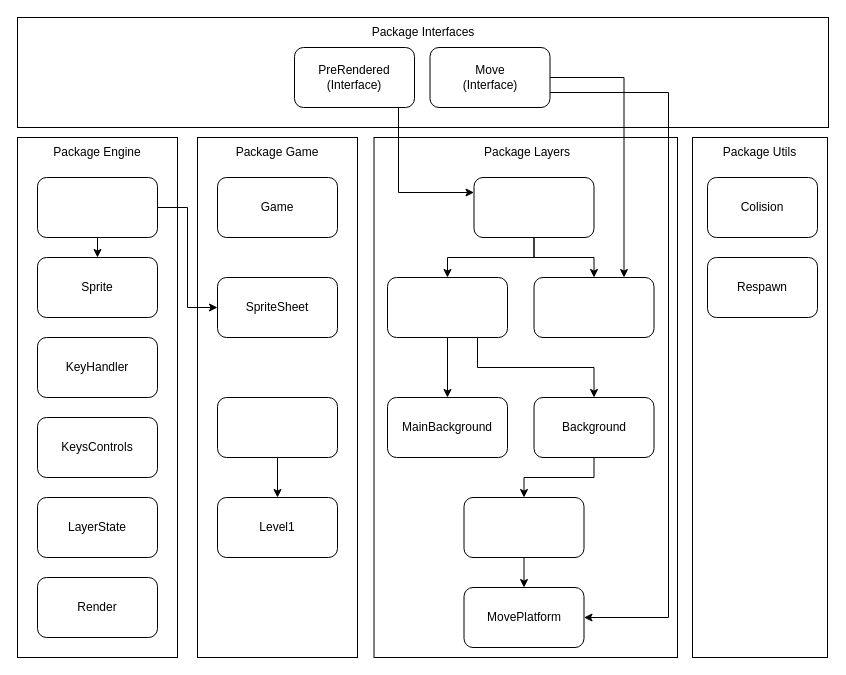
The diagram is 846 pixels wide and 675 high, and some of its shapes have lost their labels. The shapes that lost their labels are listed below. From the top down, each one's centre as x and y in pixels, then its label:
the point at 97,207: ImageTools
the point at 533,207: Layer (Abstract Class)
the point at 447,307: NonPlayer
the point at 593,307: Player
the point at 277,427: Level
the point at 523,527: Platform
